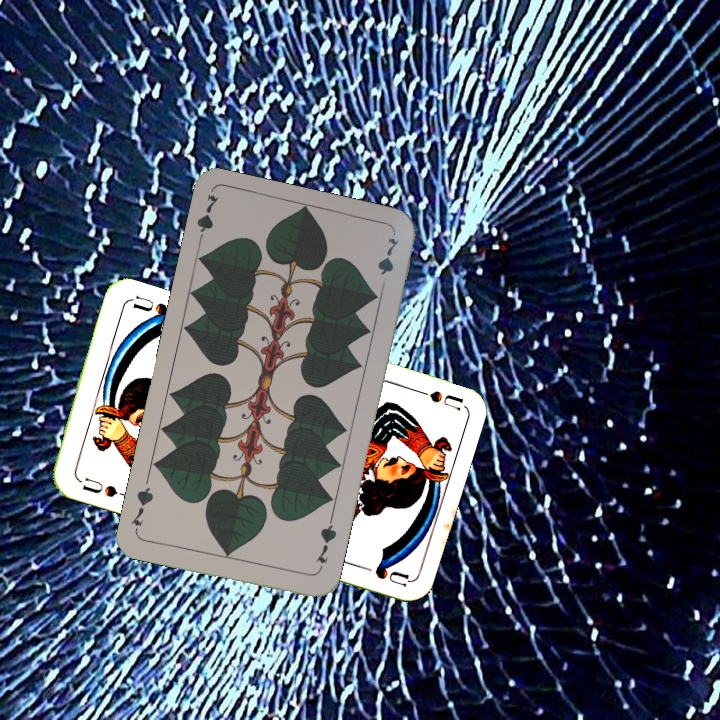G7: (193, 191, 222, 250), (312, 515, 339, 574)
SU: (405, 383, 464, 412), (73, 473, 130, 500)
